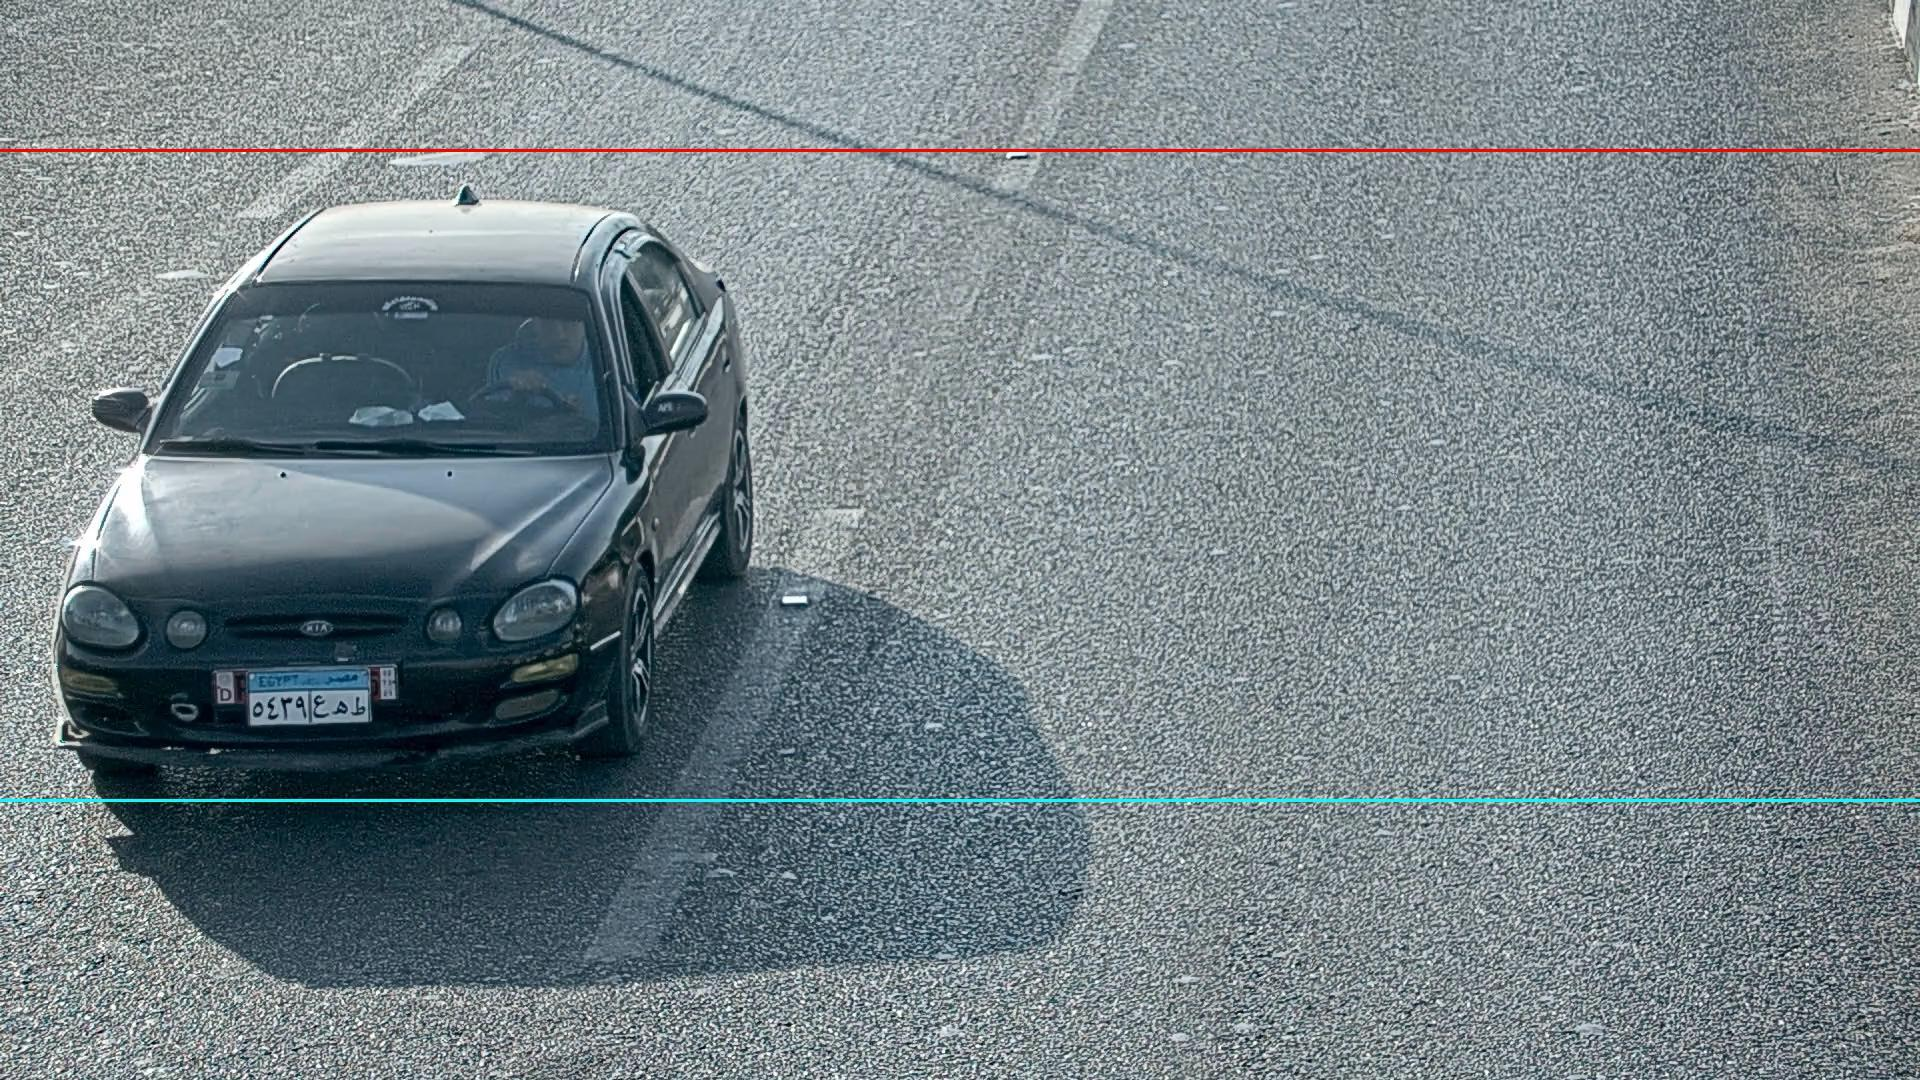windshield: (135, 253, 628, 469)
